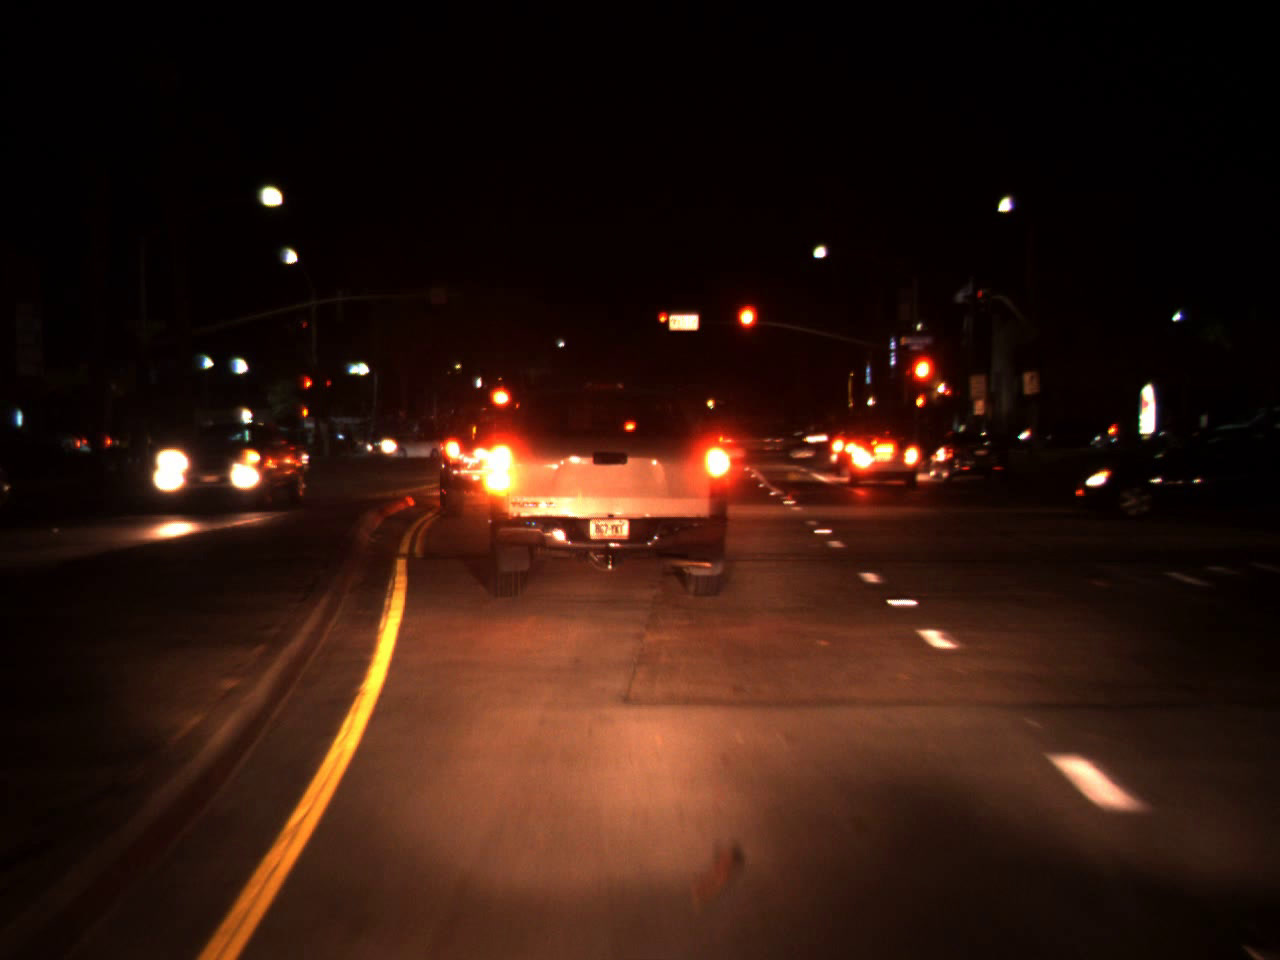stop: (906, 350, 939, 417), (734, 301, 759, 359), (302, 375, 314, 402), (658, 311, 670, 329)
